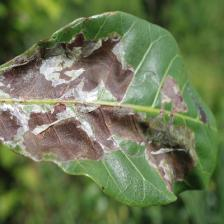leaf miner: (0, 10, 219, 208)
